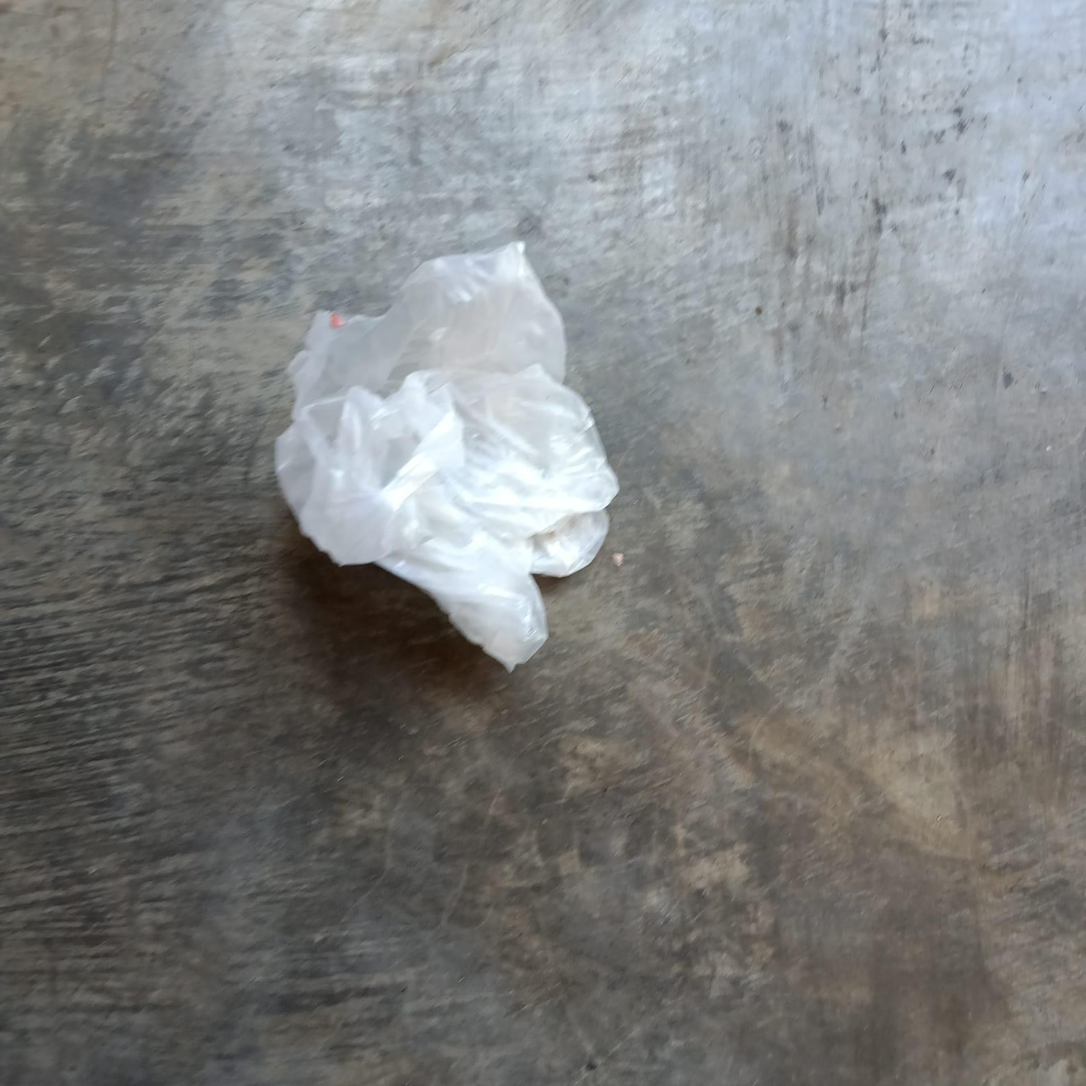Plastik: (271, 240, 617, 667)
